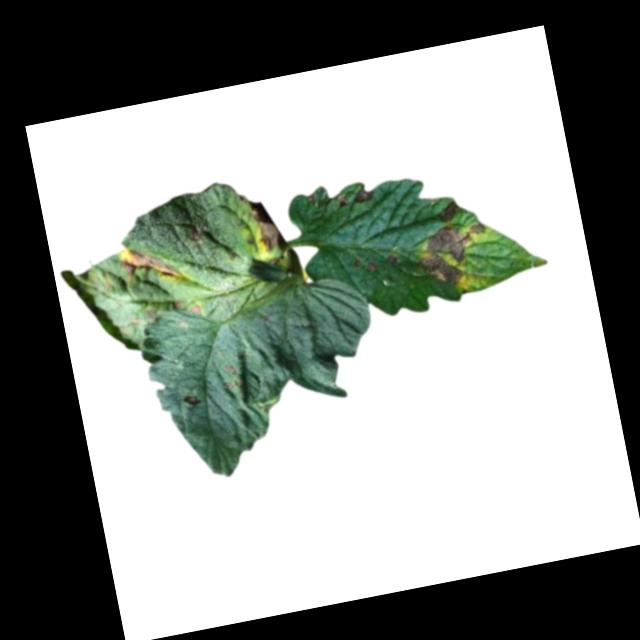Early_blight: (414, 219, 498, 293), (117, 237, 183, 285), (248, 196, 287, 255), (352, 185, 379, 204), (182, 390, 203, 408), (190, 300, 205, 317), (386, 250, 399, 265), (366, 256, 376, 270)
